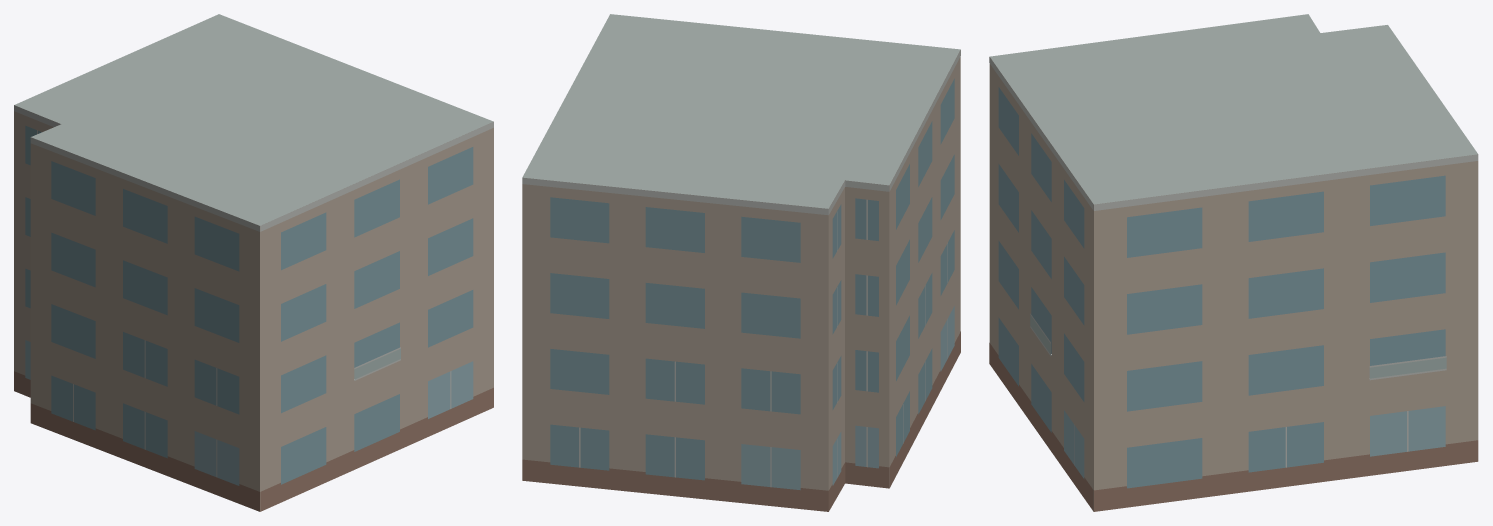
The model's file is survey-upis-32845811.glb.
3 views of the same model, side by side, from view 1: azimuth 30°, elevation 25°; view 2: azimuth 150°, elevation 25°; view 3: azimuth 270°, elevation 25° (orthographic). The views are drawn at different scales.
Visible parts, largest first — view 1: survey-upis-32845811.tmp; view 2: survey-upis-32845811.tmp; view 3: survey-upis-32845811.tmp.
Boxes of the visible parts, box(x1,y1,x2,y2) form: survey-upis-32845811.tmp: box(14, 14, 493, 511); survey-upis-32845811.tmp: box(522, 14, 960, 511); survey-upis-32845811.tmp: box(989, 14, 1478, 511).
Size of the model in its own units: 15.3 by 11.5 by 16.59.
